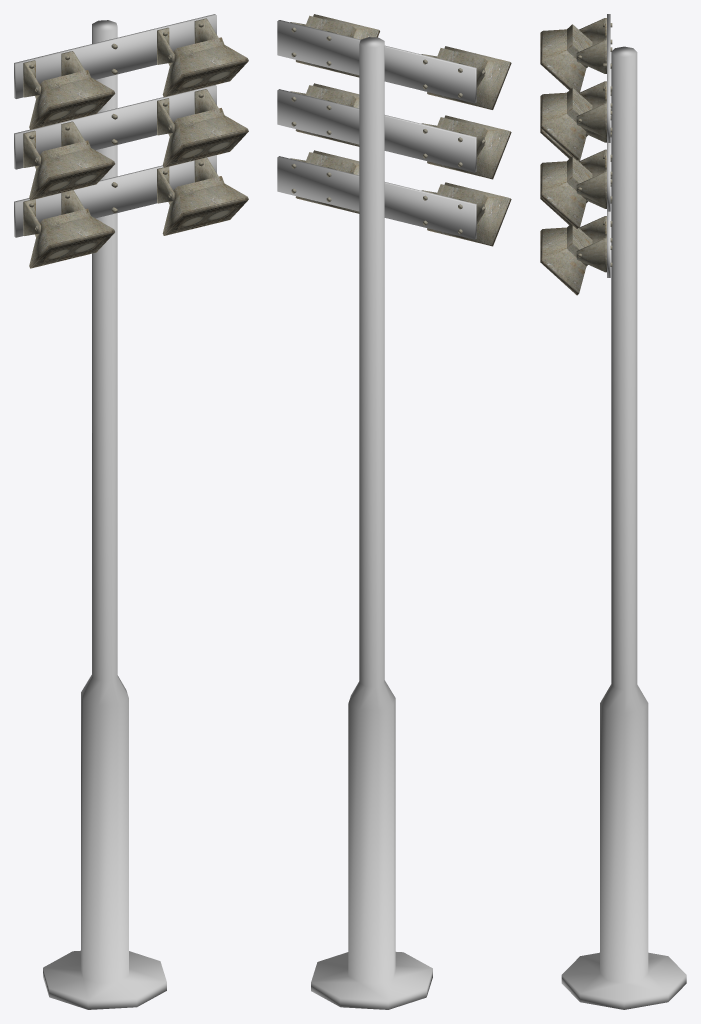
Rendered from lantern.fbx.
3 views of the same model, side by side, from view 1: azimuth 30°, elevation 25°; view 2: azimuth 150°, elevation 25°; view 3: azimuth 270°, elevation 25° (orthographic). The views are drawn at different scales.
Parts seen in each view (by area): view 1: Mesh; view 2: Mesh; view 3: Mesh.
Part boxes in pixels (x1,y1,x2,y2): Mesh: (14, 14, 248, 1009); Mesh: (277, 14, 511, 1009); Mesh: (540, 14, 686, 1009).
Bounding box in the file's own units: 140 × 635 × 90.28.
